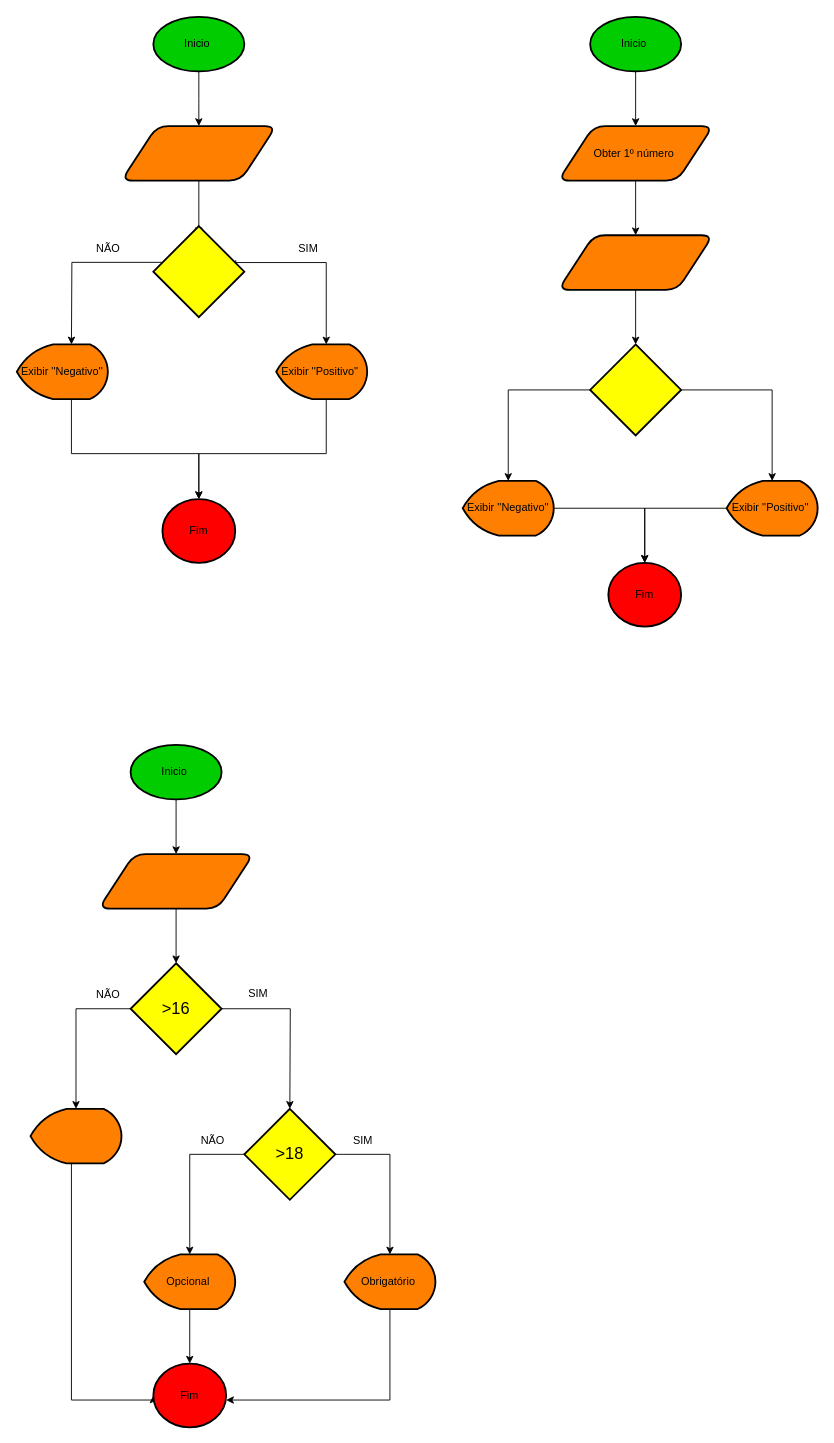
The diagram is 834 pixels wide and 1443 high, and some of its shapes have lost their labels. Here are the shapes that lost their labels. From the top down, the centre of each, then its label:
At [198,153]: "Recebe 1º número".
At [198,271]: "Maior que 0?".
At [635,262]: "Obter 2º número".
At [635,389]: "O 1º número é maior do que o 2º número?".
At [175,881]: "Obter idade".
At [75,1135]: "Não pode".
